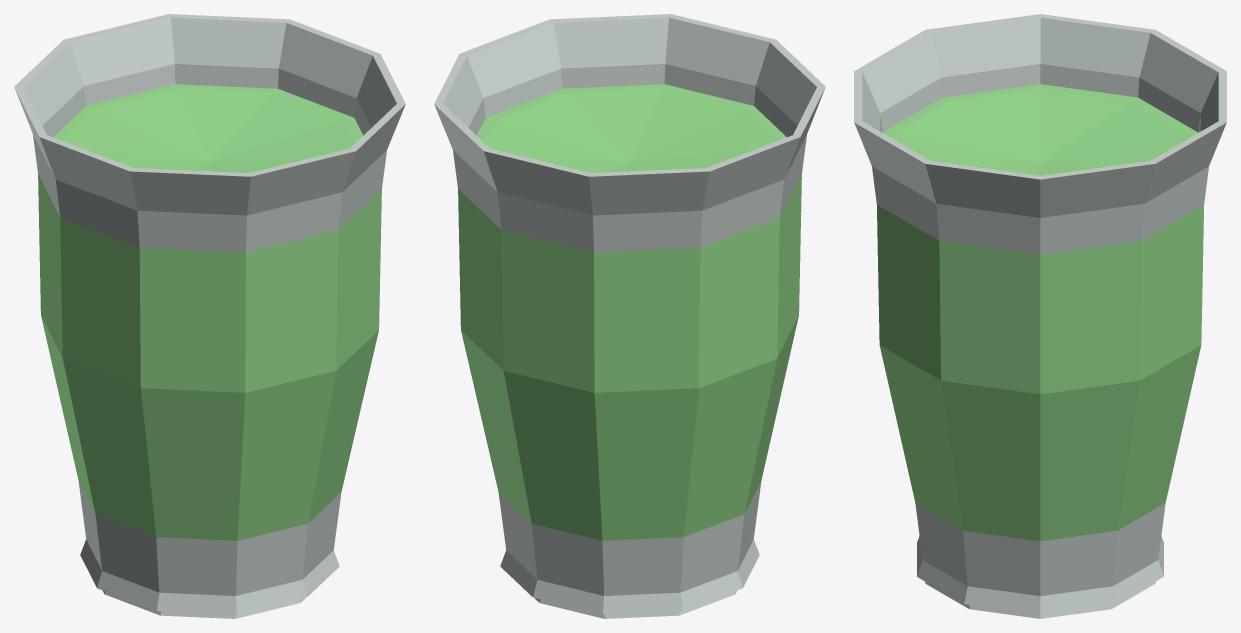
Rendered from fizzle.fbx.
3 renders of one model, left to right at view 1: azimuth 30°, elevation 25°; view 2: azimuth 150°, elevation 25°; view 3: azimuth 270°, elevation 25°, orthographic.
Parts seen in each view (by area): view 1: Drink, Glass; view 2: Drink, Glass; view 3: Drink, Glass.
Boxes of the visible parts, x1,y1,x2,y2 form: Drink: [38, 84, 381, 540]; Glass: [14, 14, 405, 618]; Drink: [458, 84, 801, 540]; Glass: [434, 14, 825, 618]; Drink: [877, 84, 1203, 541]; Glass: [854, 14, 1226, 618].
Bounding box in the file's own units: 178 × 240 × 169.
